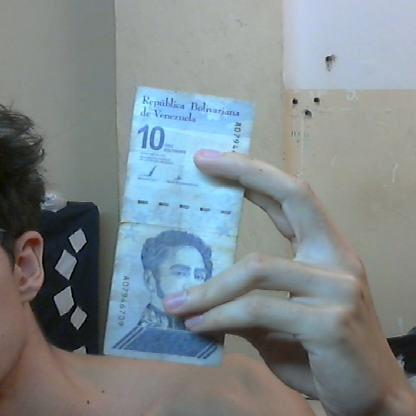vef_front: (107, 85, 256, 368)
